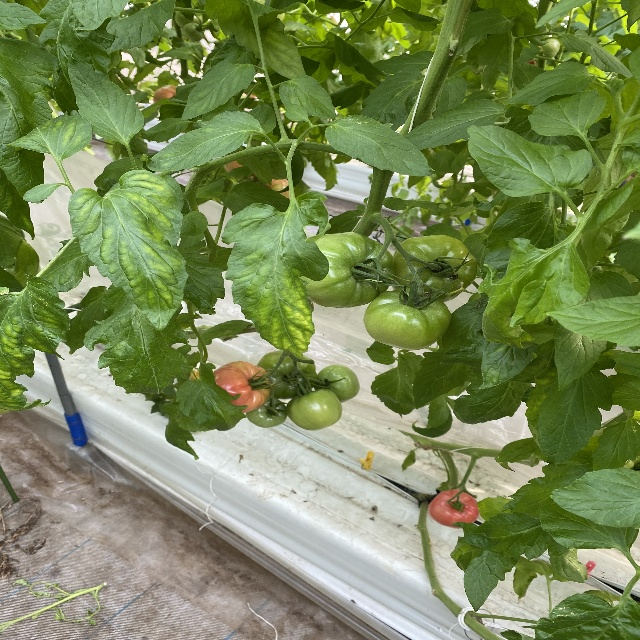b_fully_ripened: (428, 489, 479, 528)
b_green: (295, 232, 395, 309), (391, 234, 478, 302), (363, 289, 452, 351), (257, 350, 318, 400), (286, 389, 343, 430), (314, 364, 360, 403), (247, 395, 288, 427)
b_half_ripened: (212, 361, 270, 414)
